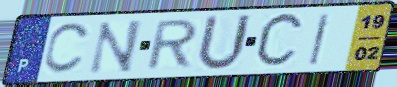C: (251, 10, 307, 72), (40, 21, 94, 77)
I: (307, 12, 334, 68)
N: (85, 18, 144, 76)
R: (143, 17, 202, 72)
U: (193, 13, 254, 73)
